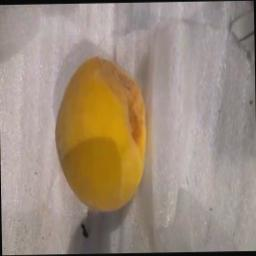Peach Rotten: (46, 42, 152, 244)
